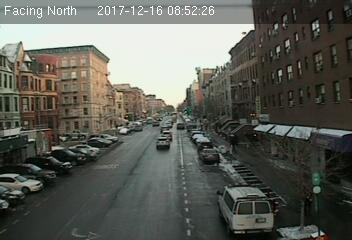car: (199, 147, 220, 162), (156, 136, 170, 148)
police: (216, 181, 274, 236)
